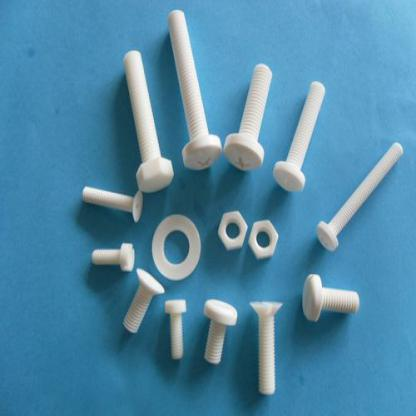FOD: (314, 140, 404, 255), (165, 5, 224, 172), (122, 48, 175, 194), (273, 78, 327, 195), (224, 61, 274, 172), (248, 298, 284, 400), (152, 214, 202, 284), (301, 271, 360, 326), (120, 267, 165, 339), (80, 184, 144, 224), (201, 298, 237, 368), (89, 238, 136, 276), (215, 207, 248, 253), (163, 299, 187, 362), (248, 218, 279, 263)
